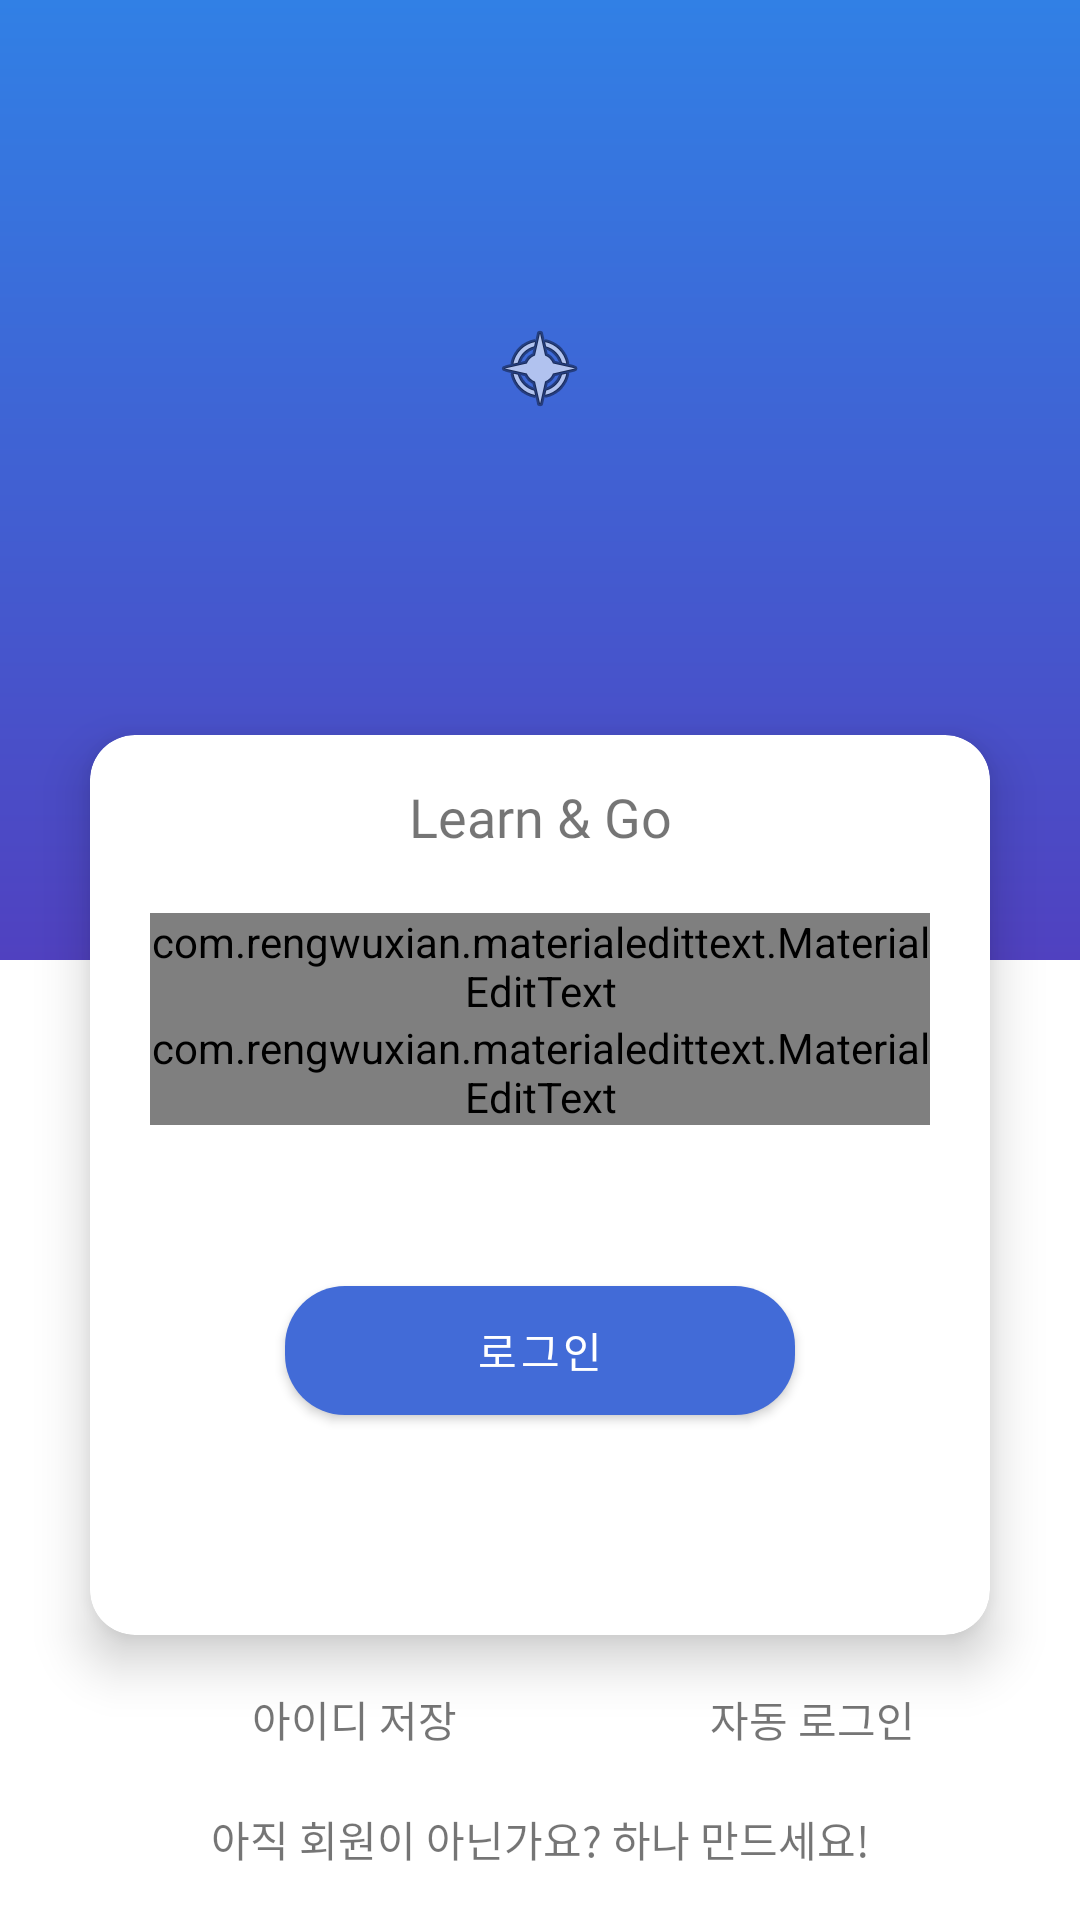

Icons on this 1080w x 1920h Android screen, each with its box as (x1, y1, x2, y2):
compass: (502, 331, 578, 406)
